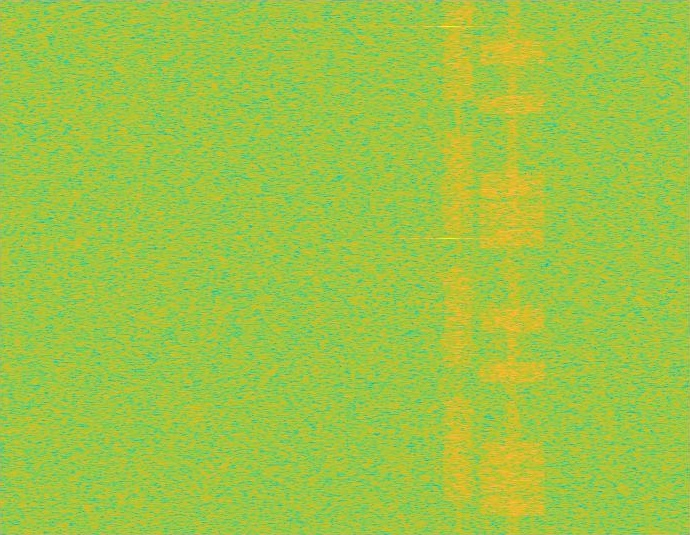5G: (441, 0, 476, 534)
DSSS: (505, 0, 520, 534), (456, 0, 461, 534)
LTE: (478, 0, 547, 534)
Radar: (442, 0, 456, 534)
